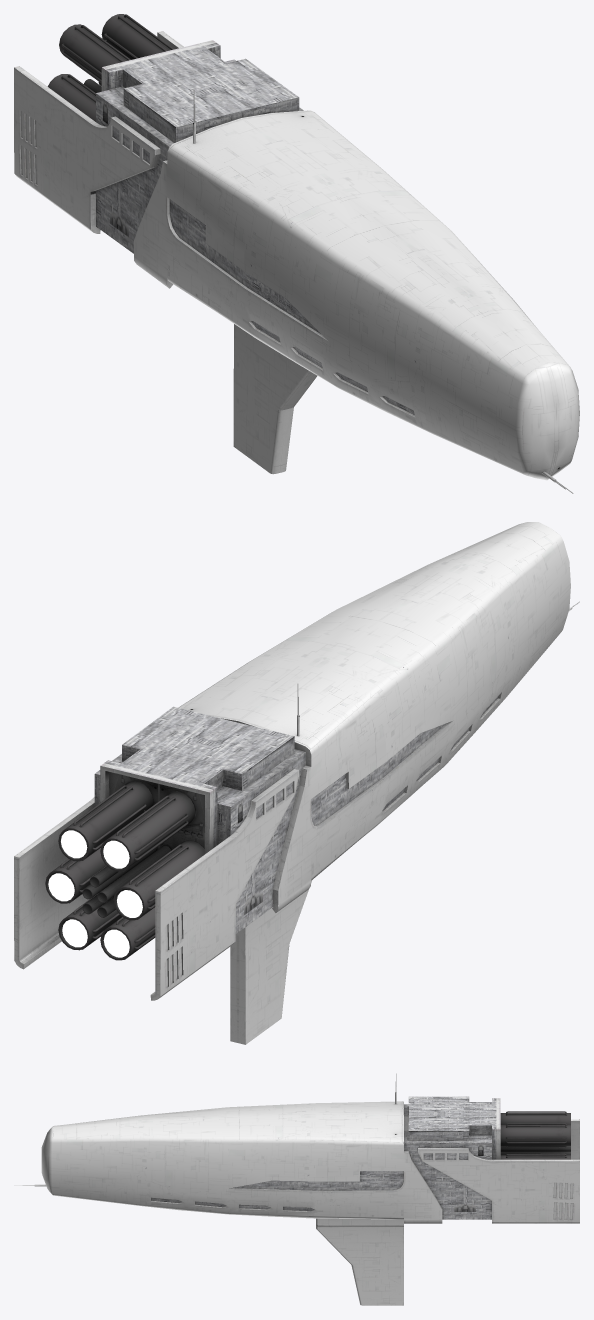
The model's file is sulon_star.glb.
The picture shows the model from 3 angles, top to bottom: view 1: azimuth 30°, elevation 25°; view 2: azimuth 150°, elevation 25°; view 3: azimuth 270°, elevation 25°; orthographic projection. The views are drawn at different scales.
Visible parts, largest first — view 1: Hull, Engines01, Pipes03, Engines03; view 2: Hull, Engines01, Engines03, Engines02, Engines04, Pipes03; view 3: Hull, Engines01, Pipes03, Engines05.
Boxes of the visible parts, box(x1,y1,x2,y2) form: Hull: box(14, 31, 579, 480); Engines01: box(59, 14, 170, 82); Pipes03: box(61, 14, 174, 83); Engines03: box(47, 74, 95, 121); Hull: box(14, 522, 570, 1044); Engines01: box(58, 781, 195, 871); Engines03: box(45, 840, 204, 920); Engines02: box(58, 907, 155, 960); Engines04: box(82, 845, 170, 917); Pipes03: box(61, 785, 188, 871); Hull: box(41, 1096, 579, 1305); Engines01: box(500, 1113, 570, 1145); Pipes03: box(506, 1111, 566, 1147); Engines05: box(500, 1146, 570, 1151).
Bounding box in the file's own units: 359 × 861 × 2058.
Materials: 6 (5 with a texture image).
